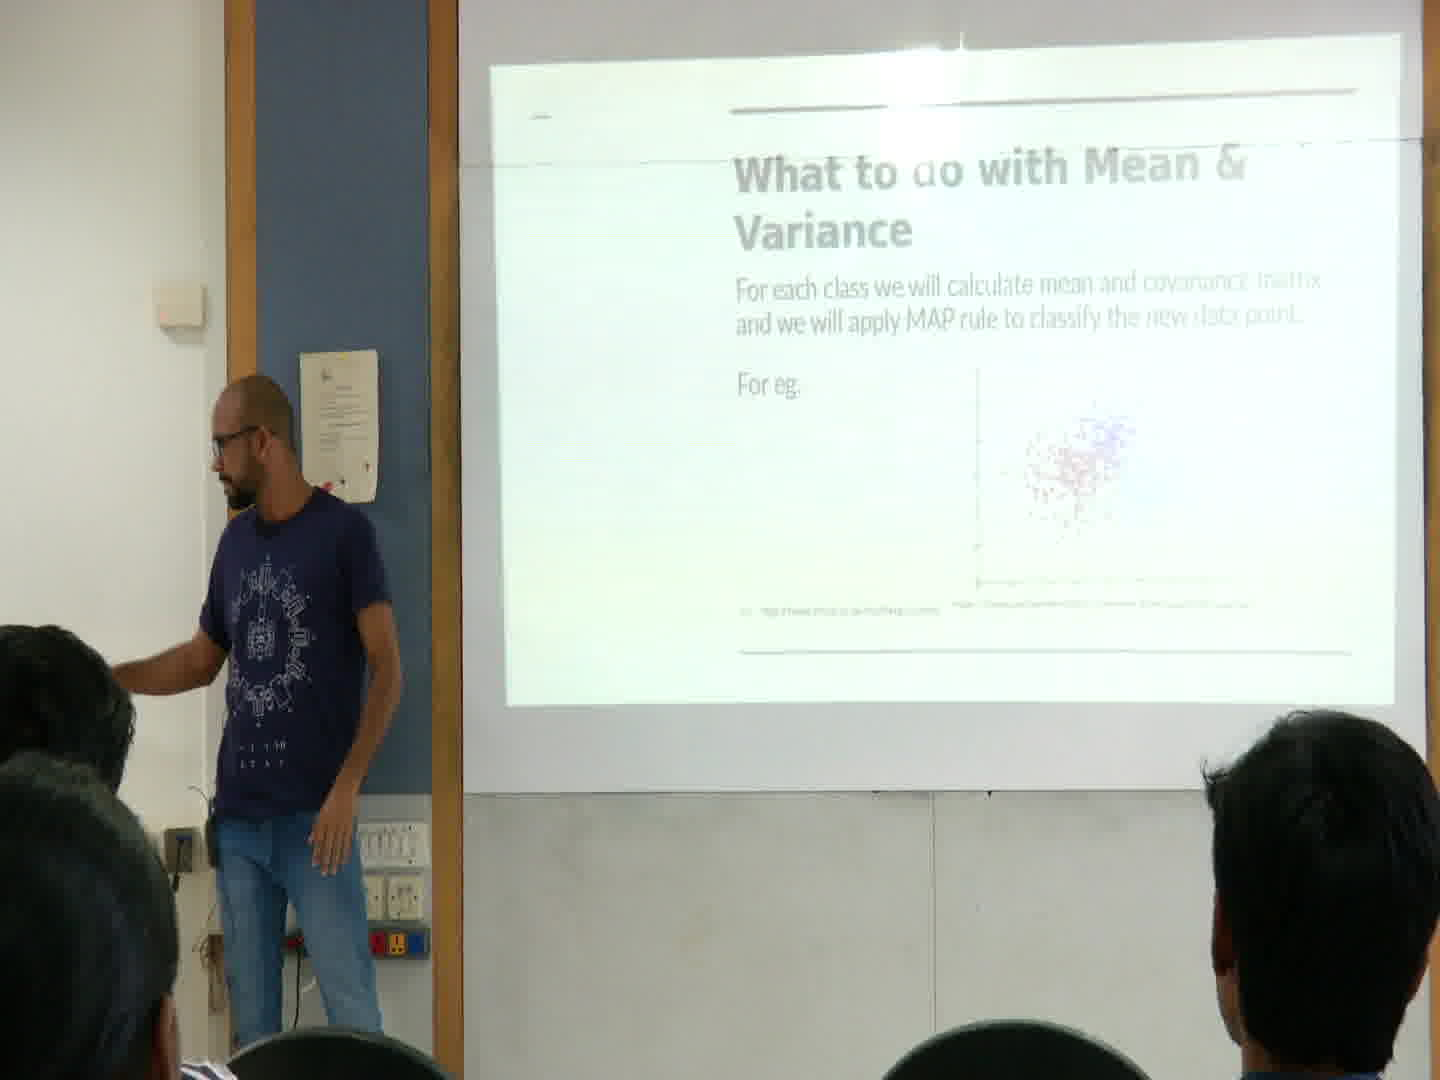slide: (488, 32, 1399, 708)
